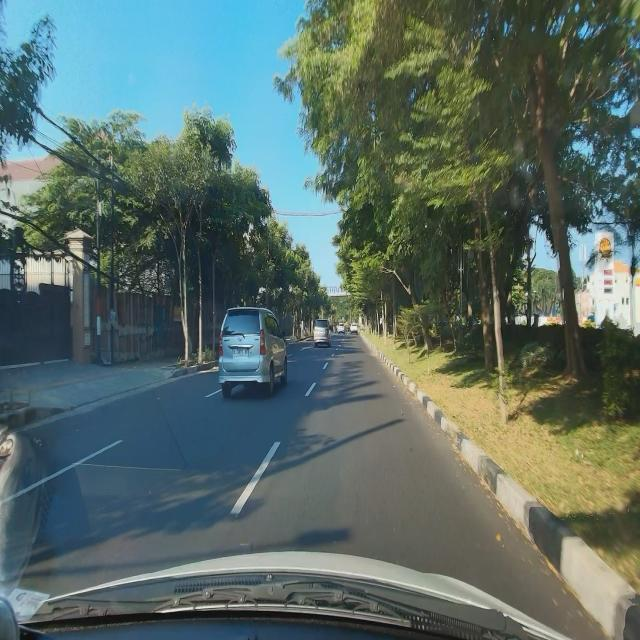car: (217, 306, 288, 402), (313, 318, 332, 348)
license-plate: (233, 348, 249, 358)
